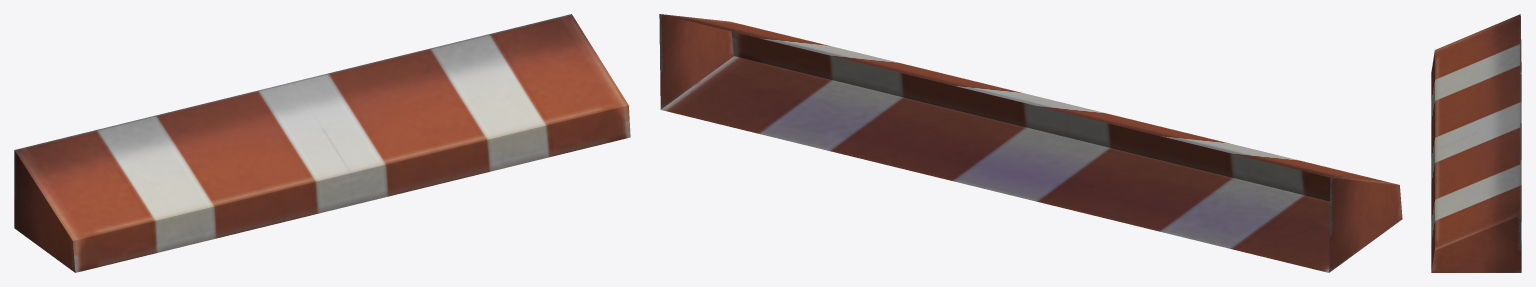
Rendered from PK_model_sundries_01.FBX.
3 renders of one model, left to right at view 1: azimuth 30°, elevation 25°; view 2: azimuth 150°, elevation 25°; view 3: azimuth 270°, elevation 25°, orthographic. The views are drawn at different scales.
Parts seen in each view (by area): view 1: PK_model_sundries_01; view 2: PK_model_sundries_01; view 3: PK_model_sundries_01.
Boxes of the visible parts, x1=… form: PK_model_sundries_01: x1=14, y1=14, x2=630, y2=272; PK_model_sundries_01: x1=659, y1=14, x2=1402, y2=272; PK_model_sundries_01: x1=1431, y1=14, x2=1521, y2=272.
Size of the model in its own units: 782 by 106 by 148.
